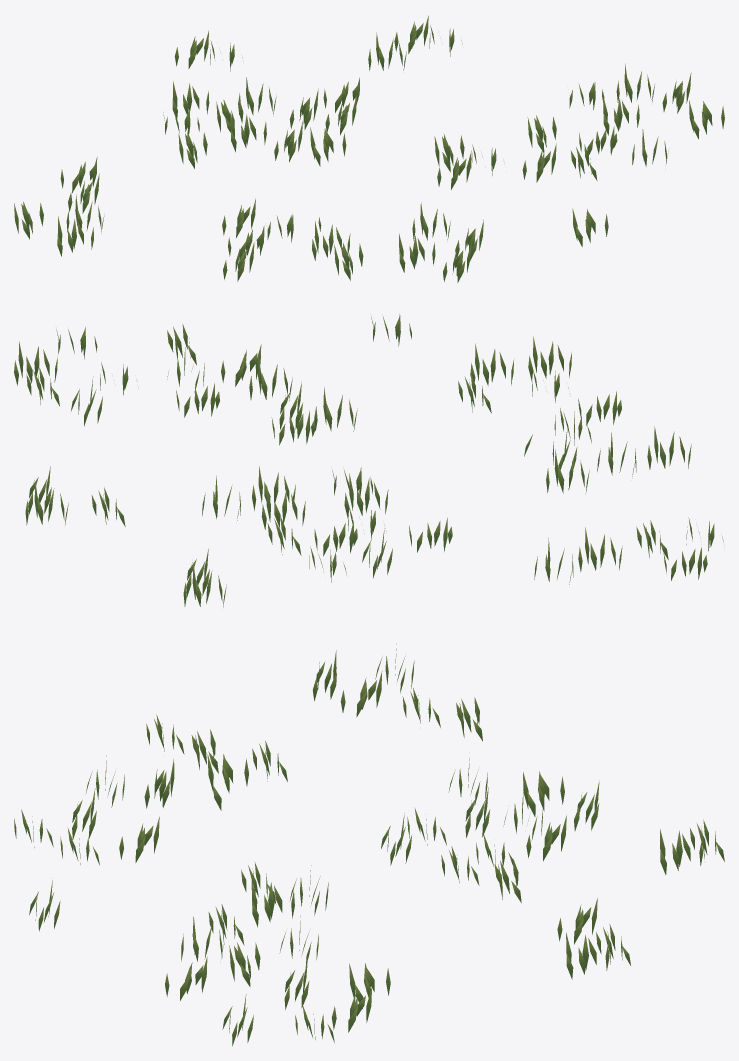
Rendered from plants_un_main_grass_set31_02.gltf.
3 views of the same model, one above another, from view 1: azimuth 30°, elevation 25°; view 2: azimuth 150°, elevation 25°; view 3: azimuth 270°, elevation 25° (orthographic). The views are drawn at different scales.
Visible parts, largest first — view 1: plants_un_main_grass_set31_02_mesh_shape:plants_un_main_gras; view 2: plants_un_main_grass_set31_02_mesh_shape:plants_un_main_gras; view 3: plants_un_main_grass_set31_02_mesh_shape:plants_un_main_gras.
Part boxes in pixels (x1,y1,x2,y2): plants_un_main_grass_set31_02_mesh_shape:plants_un_main_gras: [14, 15, 724, 282]; plants_un_main_grass_set31_02_mesh_shape:plants_un_main_gras: [14, 314, 723, 607]; plants_un_main_grass_set31_02_mesh_shape:plants_un_main_gras: [14, 643, 724, 1046].
Size of what is drawn, in the model's own units: 9.09 by 0.4615 by 7.36.
Materials: 1 (1 with a texture image).
